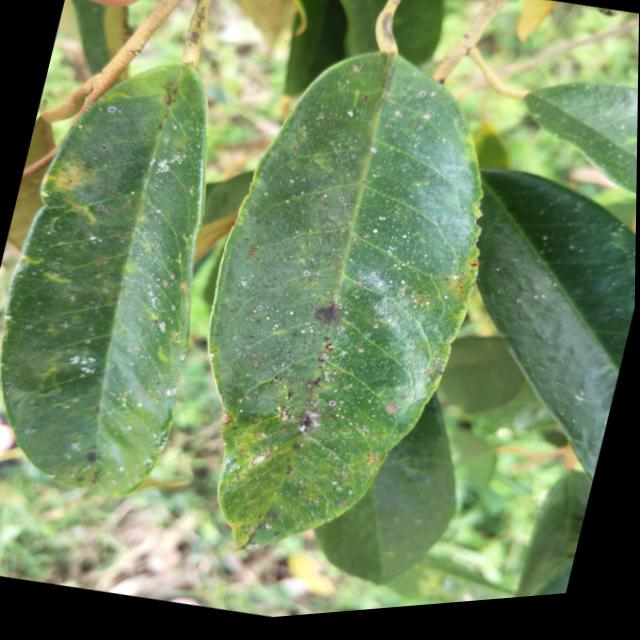Leaf Spot: (215, 75, 492, 486), (20, 99, 235, 448)
